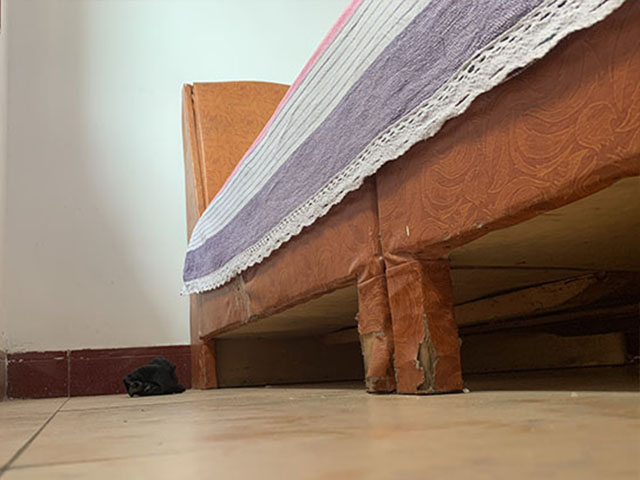bed: (178, 1, 640, 398)
socks: (120, 352, 190, 398)
